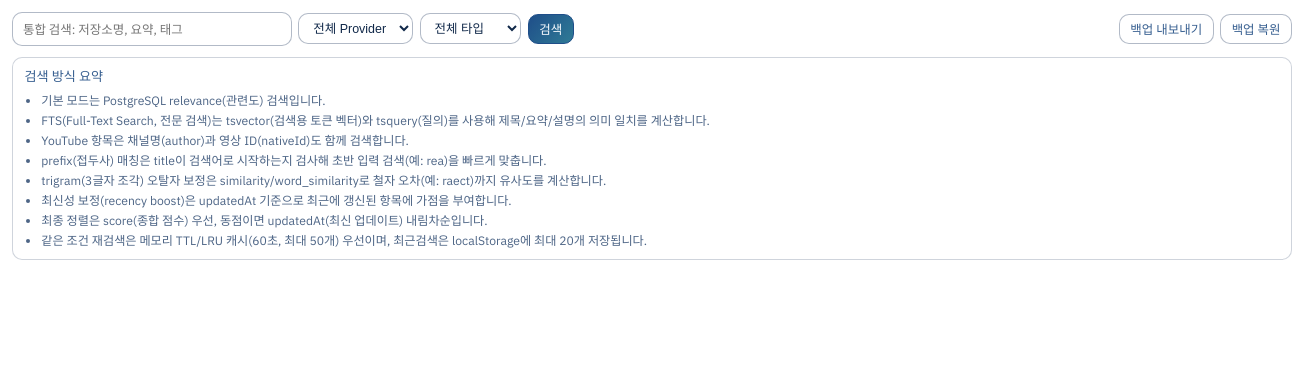
UnifiedSearchFeatureEntry › forwards provider/type filter and renders empty message
Type "react" into the field named "통합 검색어" at (152, 29), box top-left (12, 12), bottom-right (292, 46)
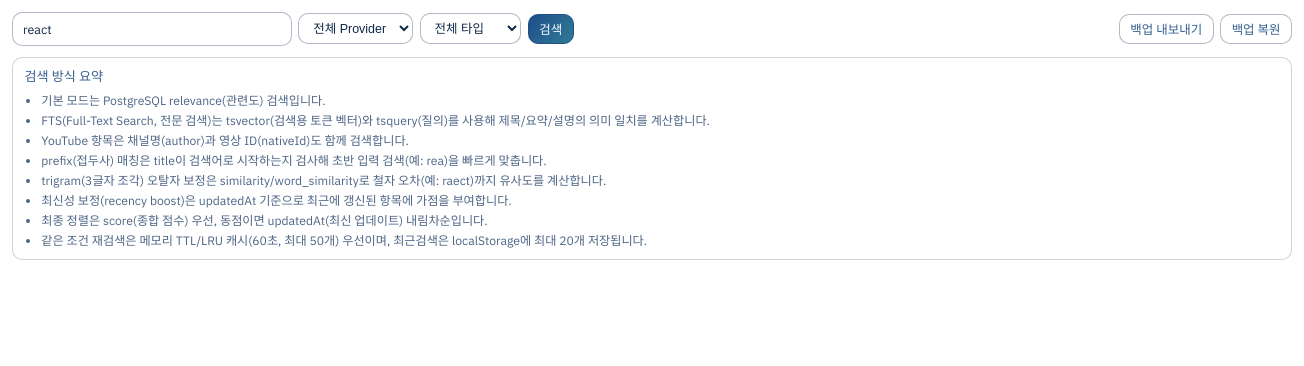
Select "GitHub" in the dropdown named "검색 provider" at (356, 29), box top-left (298, 13), bottom-right (413, 44)
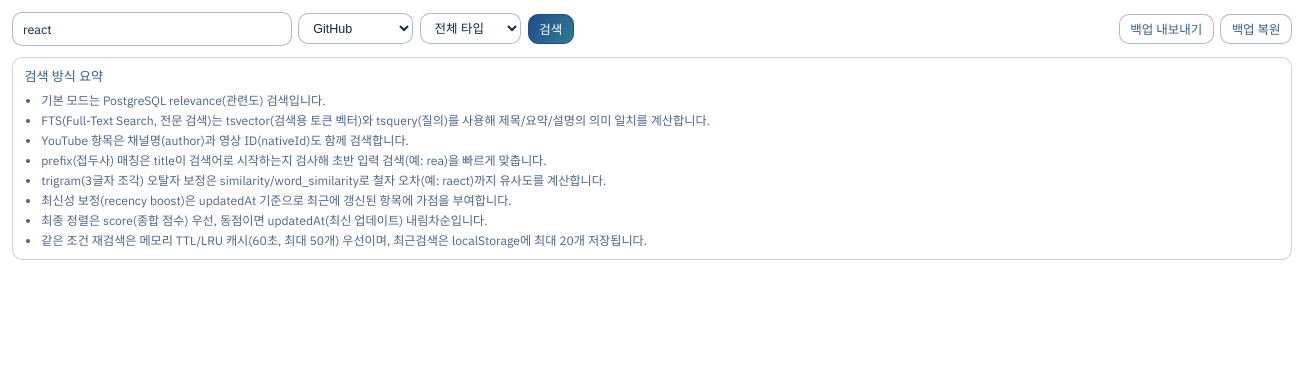
Select "Repository" in the dropdown named "검색 타입" at (470, 29), box top-left (420, 13), bottom-right (521, 44)
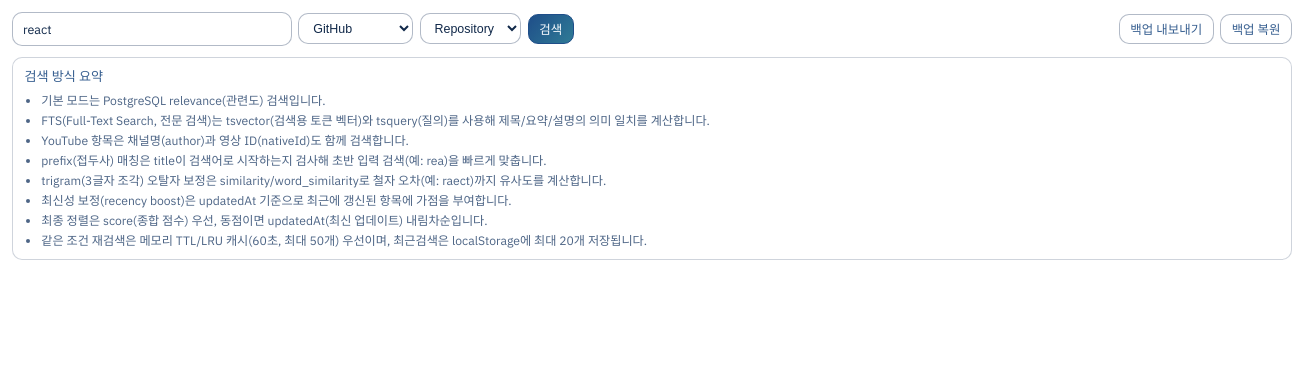
Click the button "검색" at (551, 29), box top-left (528, 14), bottom-right (574, 44)
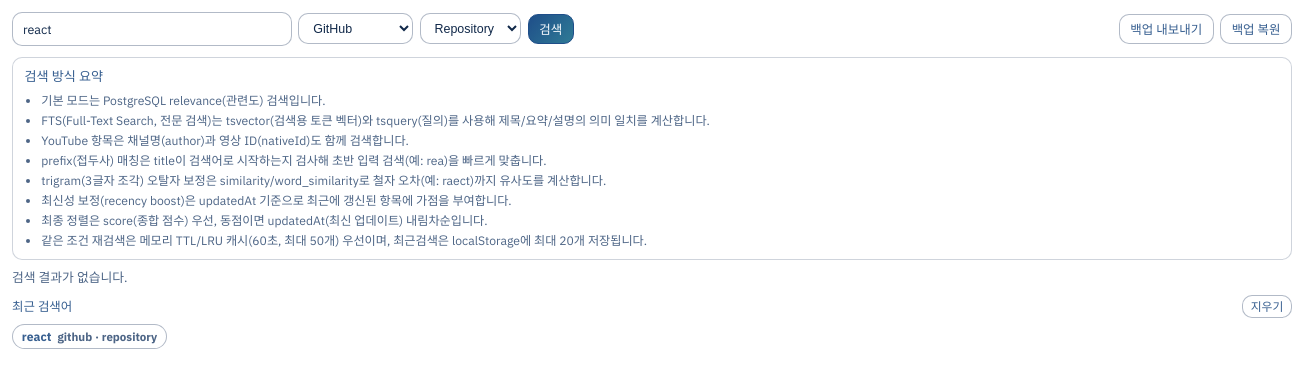
expect the text "검색 결과가 없습니다." is shown: met, box top-left (12, 269), bottom-right (128, 286)
